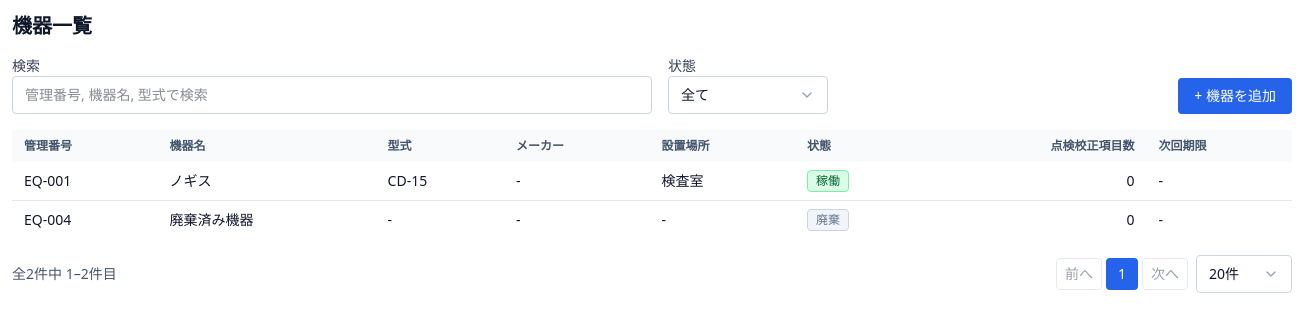
Test: EquipmentList: 状態フィルタ › デフォルト(全て)は全状態を表示し、稼働に切り替えるとretiredが隠れる
Check: the text "EQ-001" is shown, box x1=24 y1=171 x2=71 y2=190
Check: the text "EQ-004" is shown, box x1=24 y1=210 x2=71 y2=229
Click the dropdown named "状態": click(748, 95) x1=668 y1=76 x2=828 y2=114
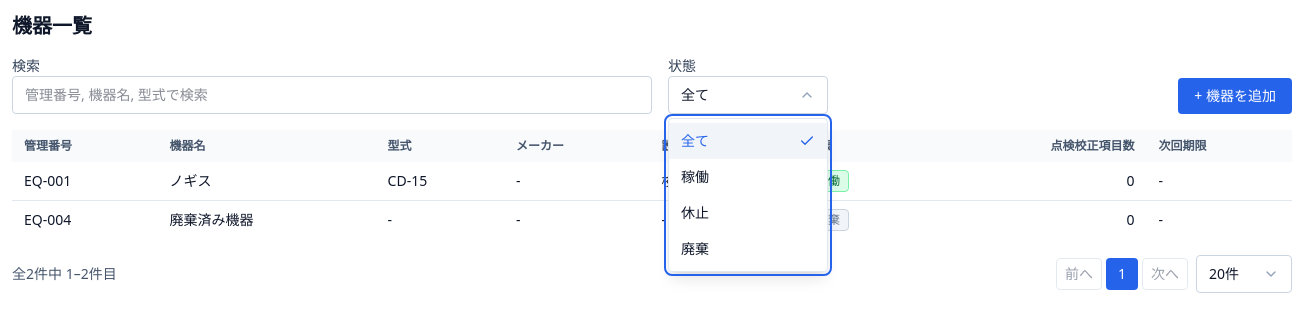
Click the option "稼働": click(748, 177) x1=669 y1=159 x2=827 y2=195
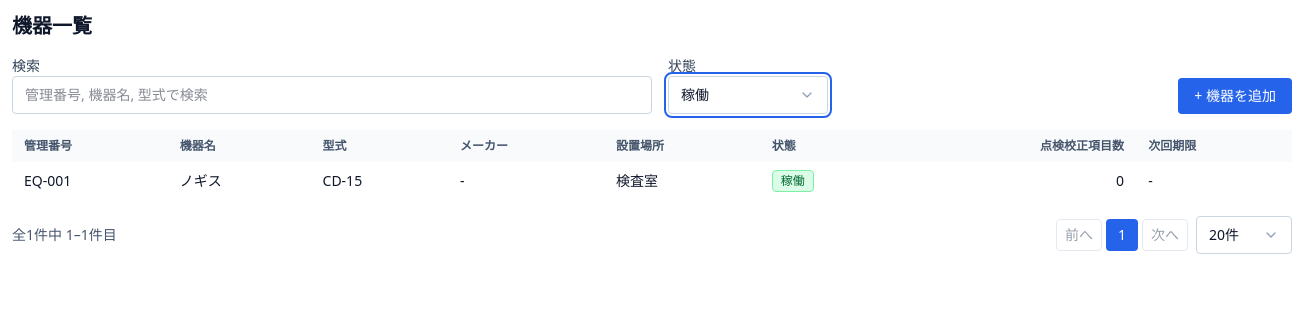
Check: the text "EQ-001" is shown, box x1=24 y1=171 x2=71 y2=190
Check: the text "EQ-004" is gone
